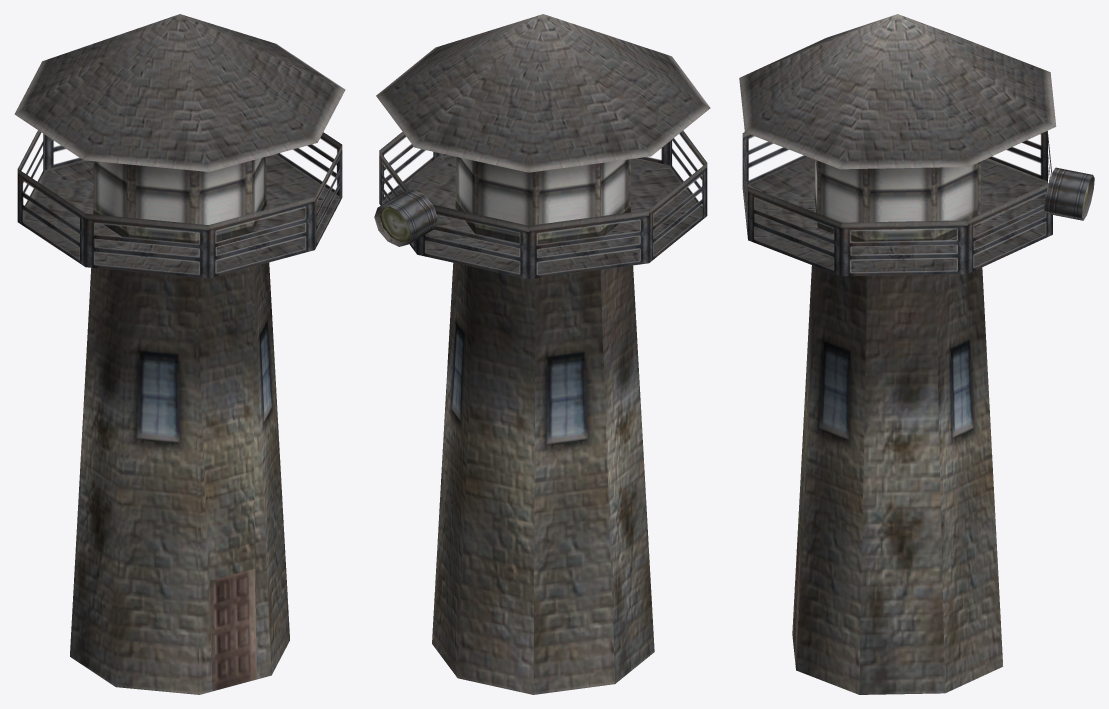
The model's file is Environment - Prop - TOWER 2 - PMTOWER2.glb.
3 views of the same model, side by side, from view 1: azimuth 30°, elevation 25°; view 2: azimuth 150°, elevation 25°; view 3: azimuth 270°, elevation 25° (orthographic).
Parts seen in each view (by area): view 1: PMTOWER2; view 2: PMTOWER2; view 3: PMTOWER2.
Boxes of the visible parts, x1,y1,x2,y2 form: PMTOWER2: (14,14,345,694); PMTOWER2: (374,14,710,694); PMTOWER2: (739,14,1094,694).
Bounding box in the file's own units: 33.42 × 74.03 × 37.48.
1 material, 1 textured.
